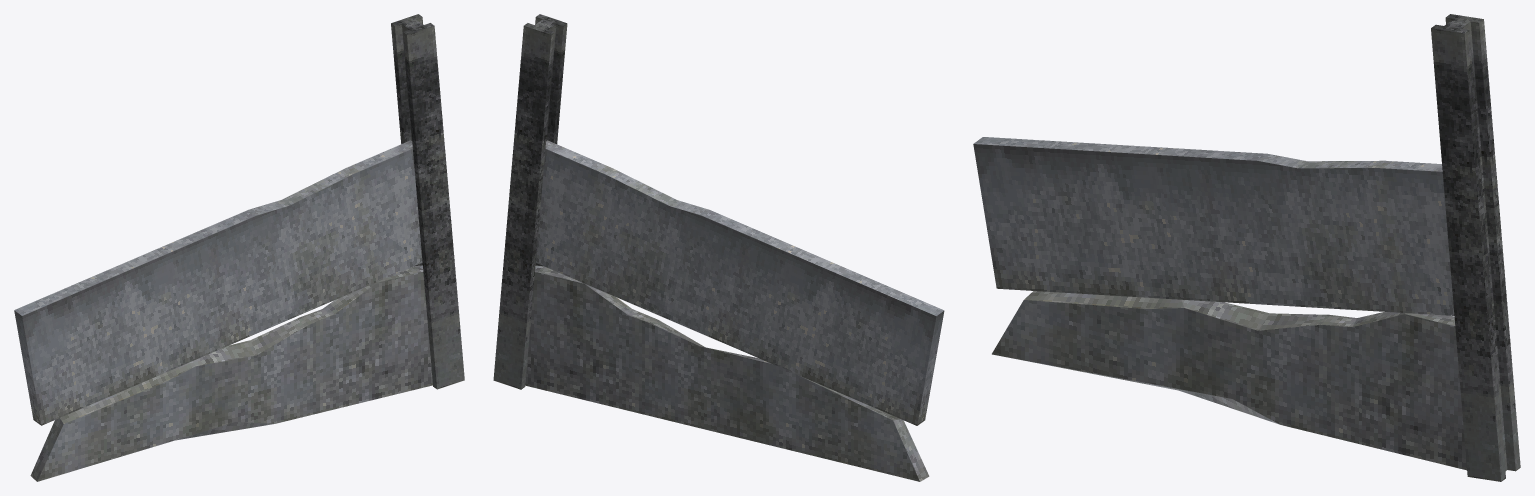
The model's file is plackard_broken_slanted.glb.
The picture shows the model from 3 angles, left to right: view 1: azimuth 30°, elevation 25°; view 2: azimuth 150°, elevation 25°; view 3: azimuth 330°, elevation 25°; orthographic projection. The views are drawn at different scales.
Visible parts, largest first — view 1: plackard_broken_slanted; view 2: plackard_broken_slanted; view 3: plackard_broken_slanted.
Boxes of the visible parts, x1,y1,x2,y2 form: plackard_broken_slanted: (14, 14, 464, 481); plackard_broken_slanted: (493, 14, 944, 481); plackard_broken_slanted: (973, 14, 1520, 481).
Bounding box in the file's own units: 3.95 × 3.13 × 0.25.
Materials: 1 (1 with a texture image).
